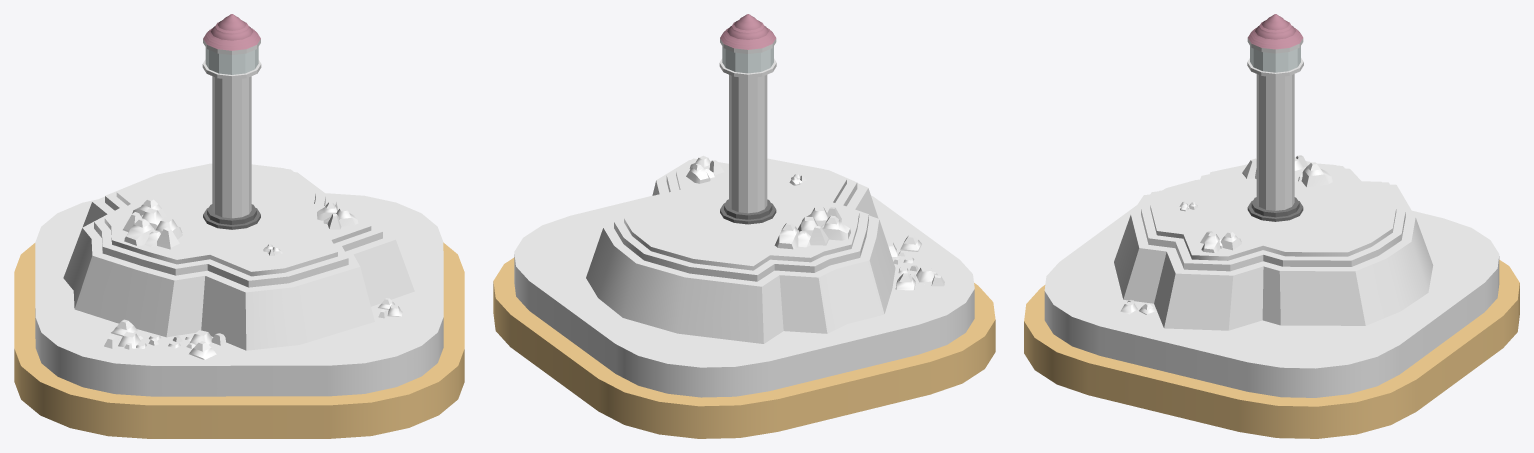
File: mencusuar_and_island.glb
3 views of the same model, side by side, from view 1: azimuth 30°, elevation 25°; view 2: azimuth 150°, elevation 25°; view 3: azimuth 270°, elevation 25° (orthographic). The views are drawn at different scales.
Visible parts, largest first — view 1: polySurface18, pCube2, pCylinder1, pCube9, polySurface19, polySurface27, pCube6; view 2: polySurface18, pCube2, pCylinder1, pCube9, polySurface27, pCube6, polySurface19; view 3: polySurface18, pCube2, pCylinder1, pCube9, pCube6.
Part boxes in pixels (bbox=[...]): polySurface18: bbox=[14, 193, 464, 438]; pCube2: bbox=[63, 163, 414, 350]; pCylinder1: bbox=[202, 14, 261, 229]; pCube9: bbox=[123, 198, 182, 249]; polySurface19: bbox=[168, 330, 225, 359]; polySurface27: bbox=[104, 319, 161, 349]; pCube6: bbox=[317, 202, 358, 229]; polySurface18: bbox=[493, 195, 995, 438]; pCube2: bbox=[586, 158, 895, 343]; pCylinder1: bbox=[719, 14, 776, 224]; pCube9: bbox=[774, 207, 850, 249]; polySurface27: bbox=[895, 265, 944, 290]; pCube6: bbox=[686, 155, 723, 183]; polySurface19: bbox=[887, 235, 921, 264]; polySurface18: bbox=[1024, 179, 1519, 438]; pCube2: bbox=[1114, 161, 1433, 330]; pCylinder1: bbox=[1247, 14, 1303, 221]; pCube9: bbox=[1242, 155, 1332, 187]; pCube6: bbox=[1200, 231, 1241, 252].
Bounding box in the file's own units: 0.1973 × 0.1392 × 0.1973.
